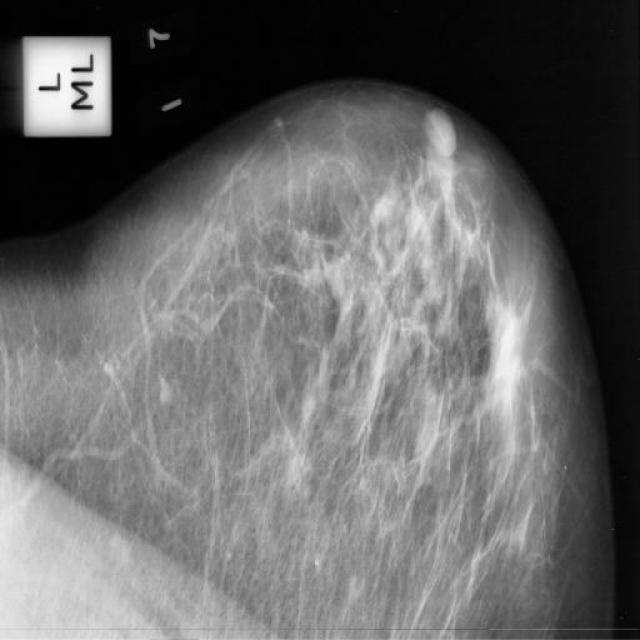cancer: (465, 284, 535, 404)
